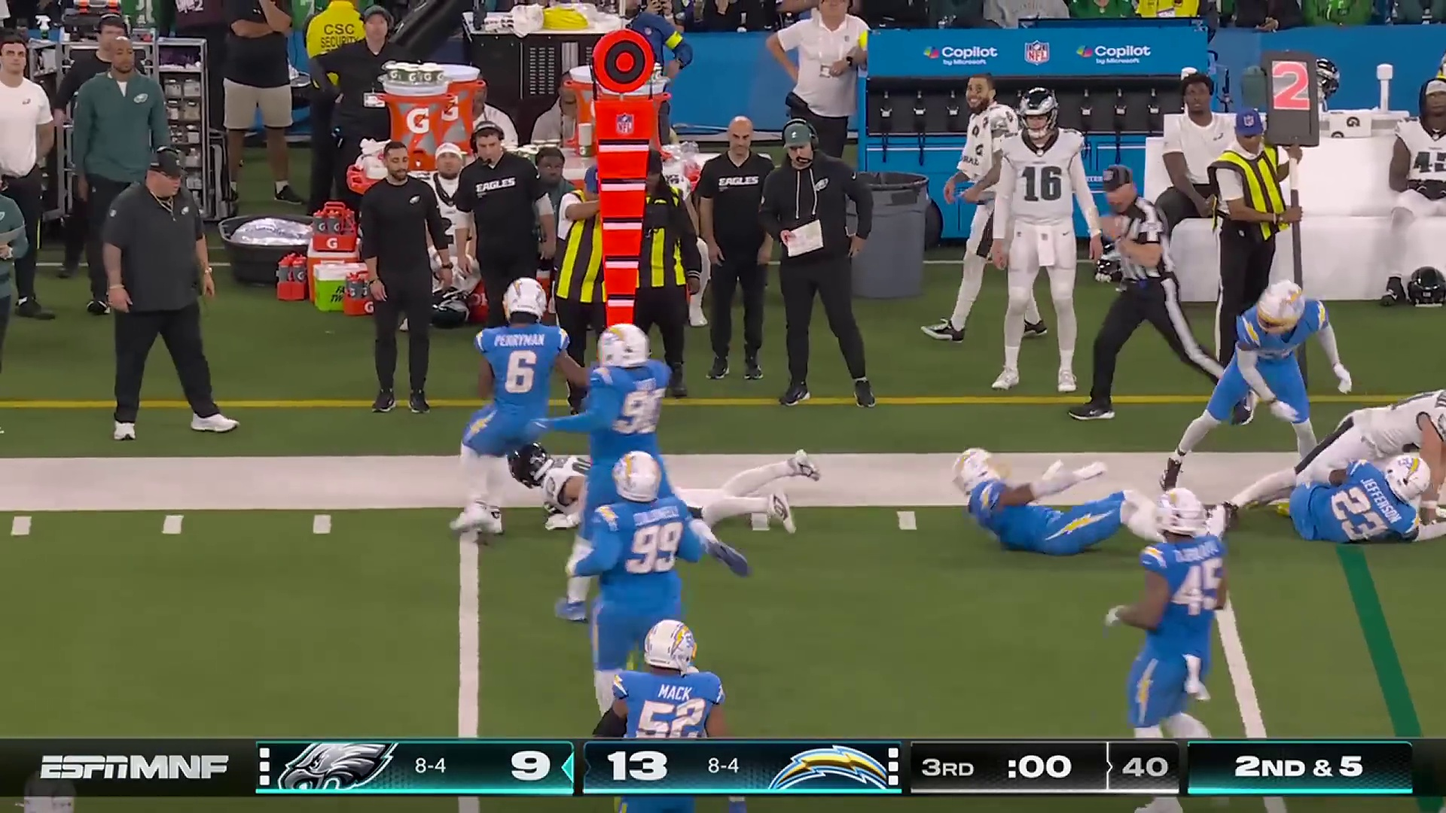player: (509, 442, 823, 529), (1134, 493, 1217, 813), (596, 623, 734, 813), (942, 444, 1183, 550), (459, 285, 551, 533), (1300, 459, 1446, 574), (1300, 380, 1446, 495), (591, 339, 676, 533), (1211, 276, 1300, 458), (605, 467, 671, 683)
